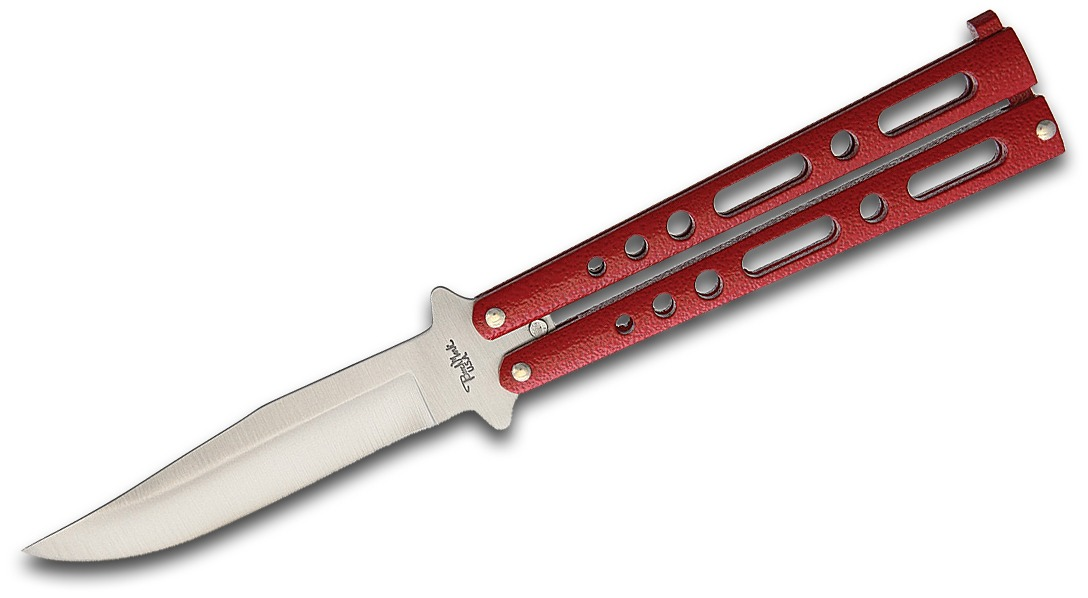knife: (19, 13, 1072, 597)
